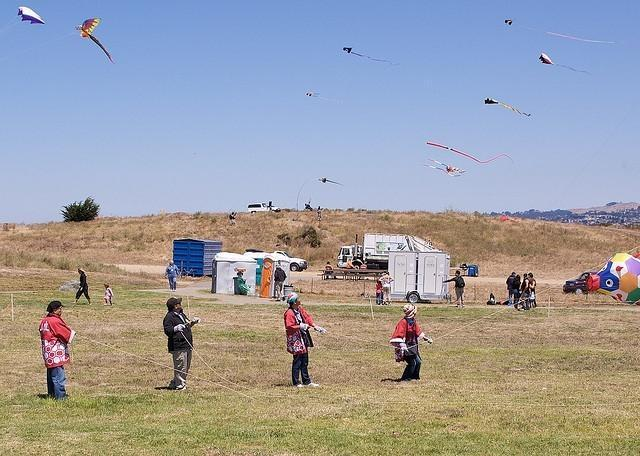car: (562, 270, 600, 294), (274, 250, 307, 271), (248, 201, 282, 214)
truck: (336, 232, 444, 270)
